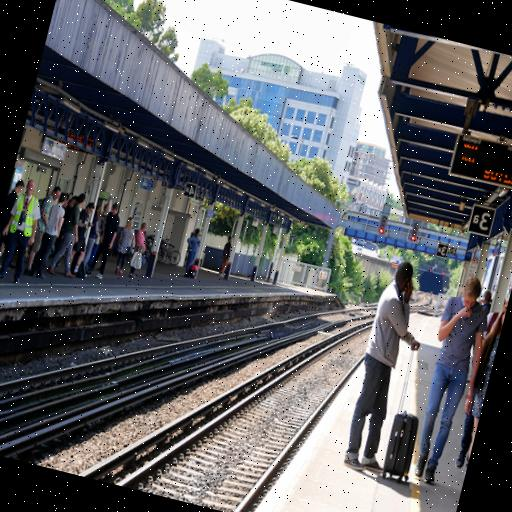platform_edge: (0, 244, 200, 369), (227, 391, 344, 512)
